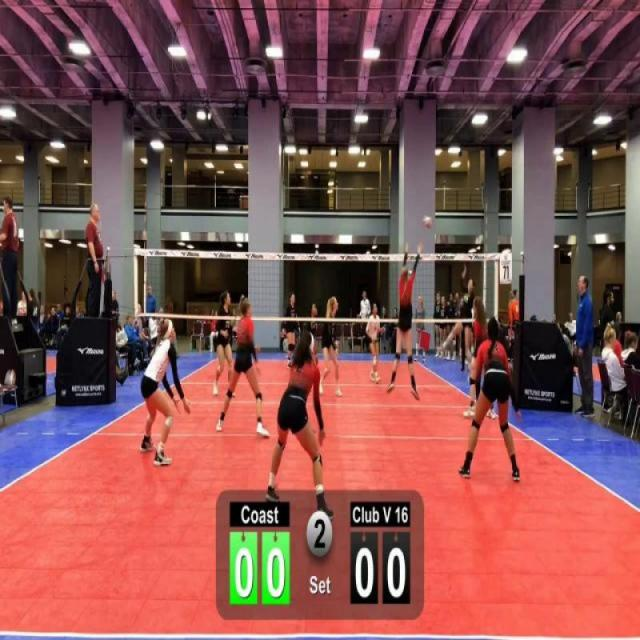volleyball: (422, 216, 433, 230)
